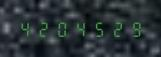five: (89, 20, 106, 37)
four: (17, 20, 34, 37), (71, 20, 88, 37)
nine: (125, 20, 142, 37)
two: (35, 20, 52, 37), (107, 20, 124, 37)
zero: (53, 20, 70, 37)
